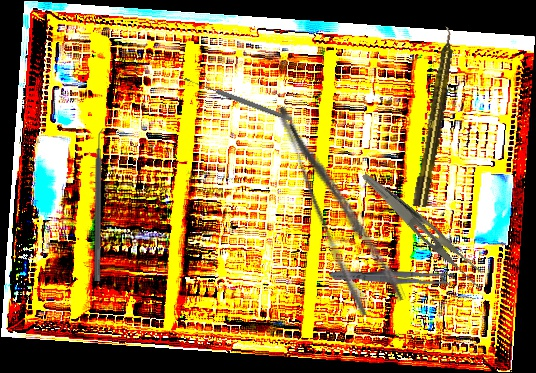Dressing Forceps: (273, 90, 407, 319), (350, 171, 494, 292), (328, 267, 453, 287)
Handpiece: (411, 25, 460, 209)
Spatula Surgical: (94, 128, 107, 281)
Surgical Spoon: (183, 75, 293, 123)
